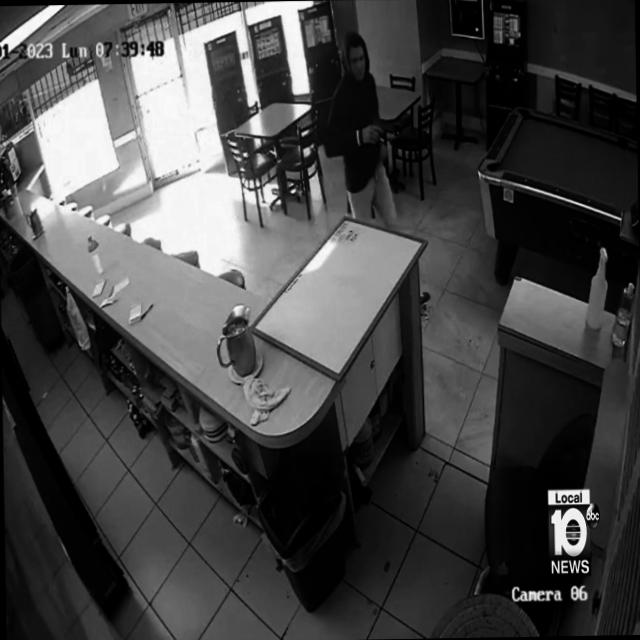gun: (369, 114, 404, 146)
person with a gun: (322, 30, 406, 232)
